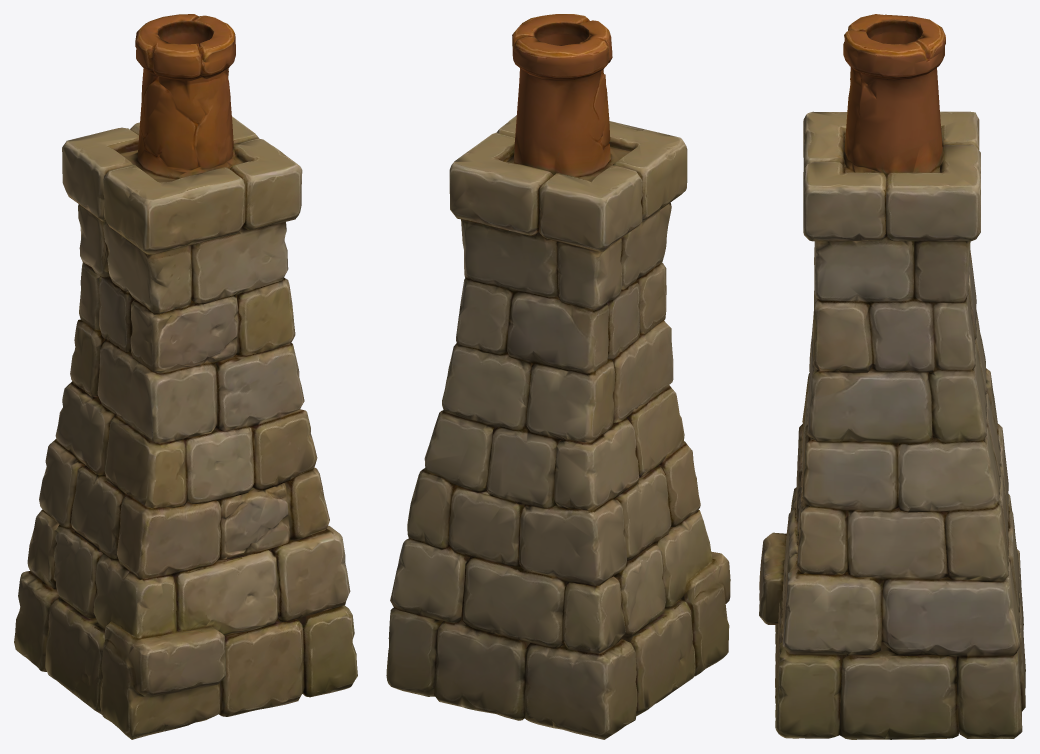
The model's file is mod_chimney_a.glb.
3 renders of one model, left to right at view 1: azimuth 30°, elevation 25°; view 2: azimuth 150°, elevation 25°; view 3: azimuth 270°, elevation 25°, orthographic. The views are drawn at different scales.
Parts seen in each view (by area): view 1: tripo_node_3e606905-5cf7-4c4c-8a88-328c4d3ec91d; view 2: tripo_node_3e606905-5cf7-4c4c-8a88-328c4d3ec91d; view 3: tripo_node_3e606905-5cf7-4c4c-8a88-328c4d3ec91d.
Part boxes in pixels (x1,y1,x2,y2): tripo_node_3e606905-5cf7-4c4c-8a88-328c4d3ec91d: [14, 14, 357, 739]; tripo_node_3e606905-5cf7-4c4c-8a88-328c4d3ec91d: [386, 14, 730, 739]; tripo_node_3e606905-5cf7-4c4c-8a88-328c4d3ec91d: [759, 14, 1025, 739].
Size of the model in its own units: 0.372 by 0.9805 by 0.3632.
Materials: 1 (1 with a texture image).
